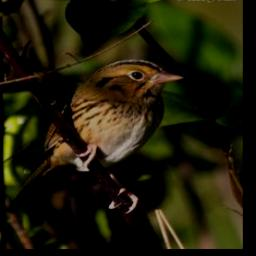Sparrow: (5, 59, 186, 213)
